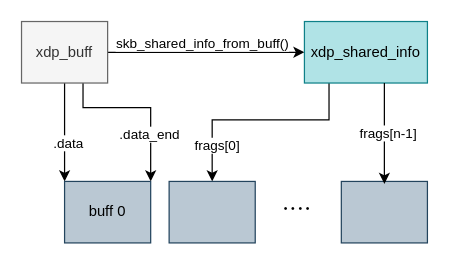
Image size: 449x264. Some labels were removed from this diagram. Here are the shapes that lost their labels. From the top down, the centre of each, then its label:
the point at 211,211: buff 1
the point at 383,211: buff n
